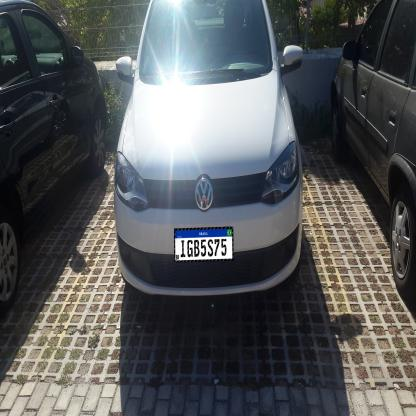PlacaM: (174, 227, 233, 262)
